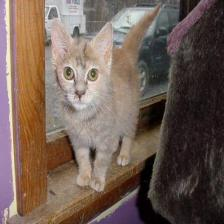cat: (49, 15, 121, 121)
